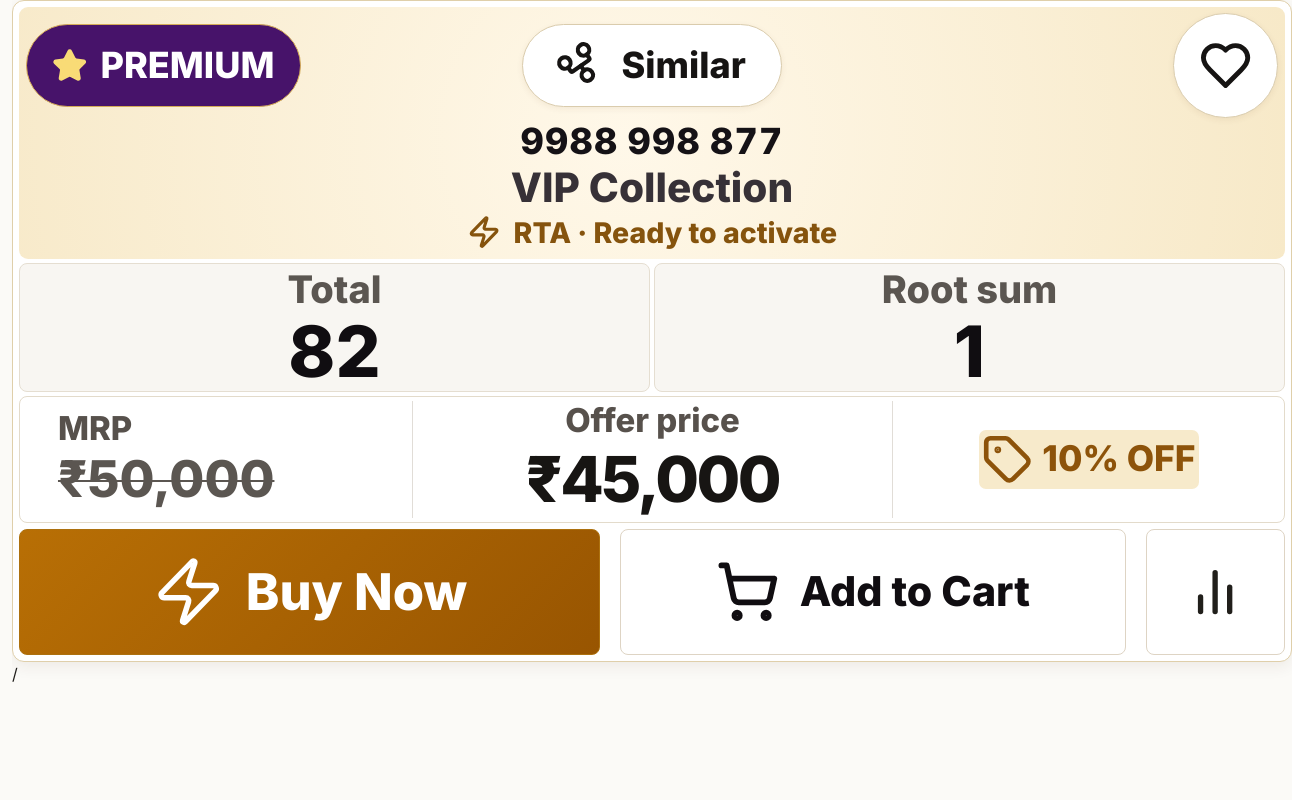
reference number card › requires login before adding a number to the cart
The image size is (1292, 800).
Click the button "Add to Cart" at (873, 592), box [620,529,1126,655]
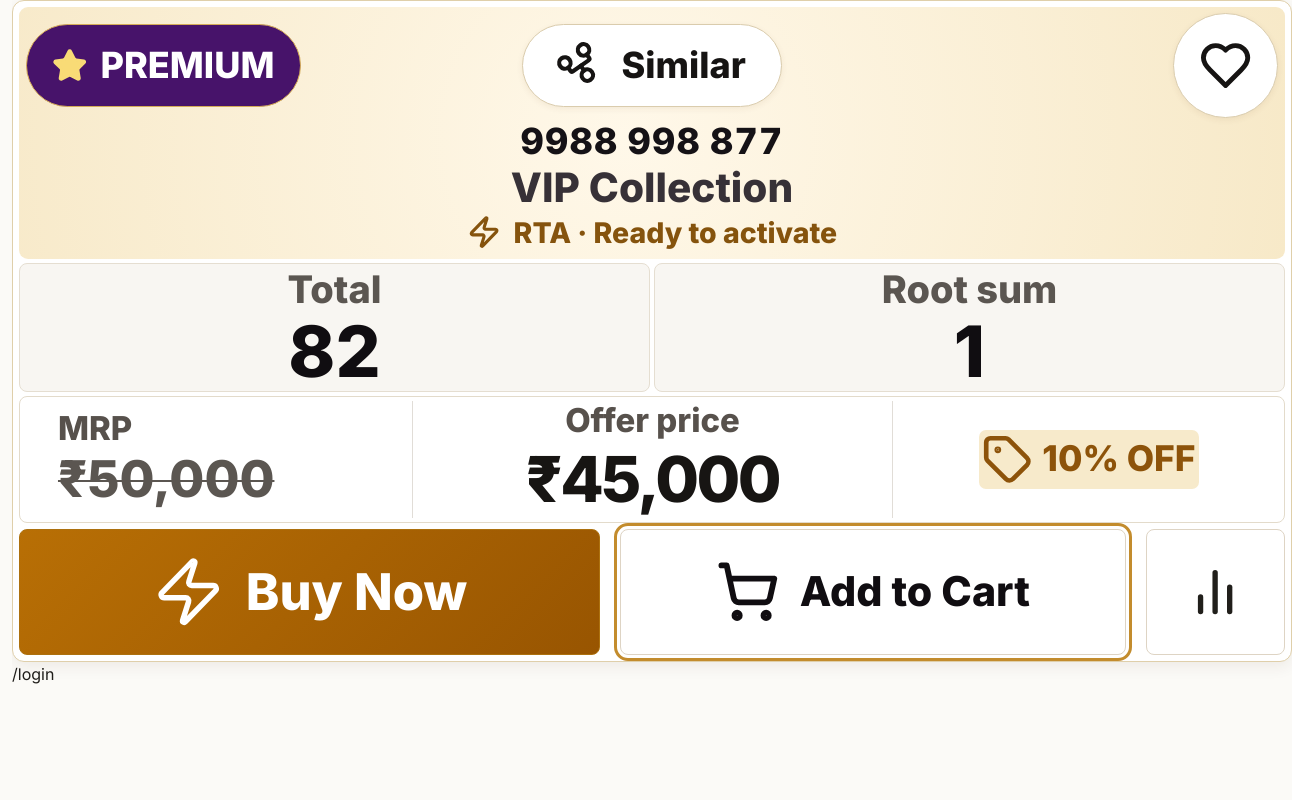
Now the text named "Location" reads "/login", box [12,664,54,684]
